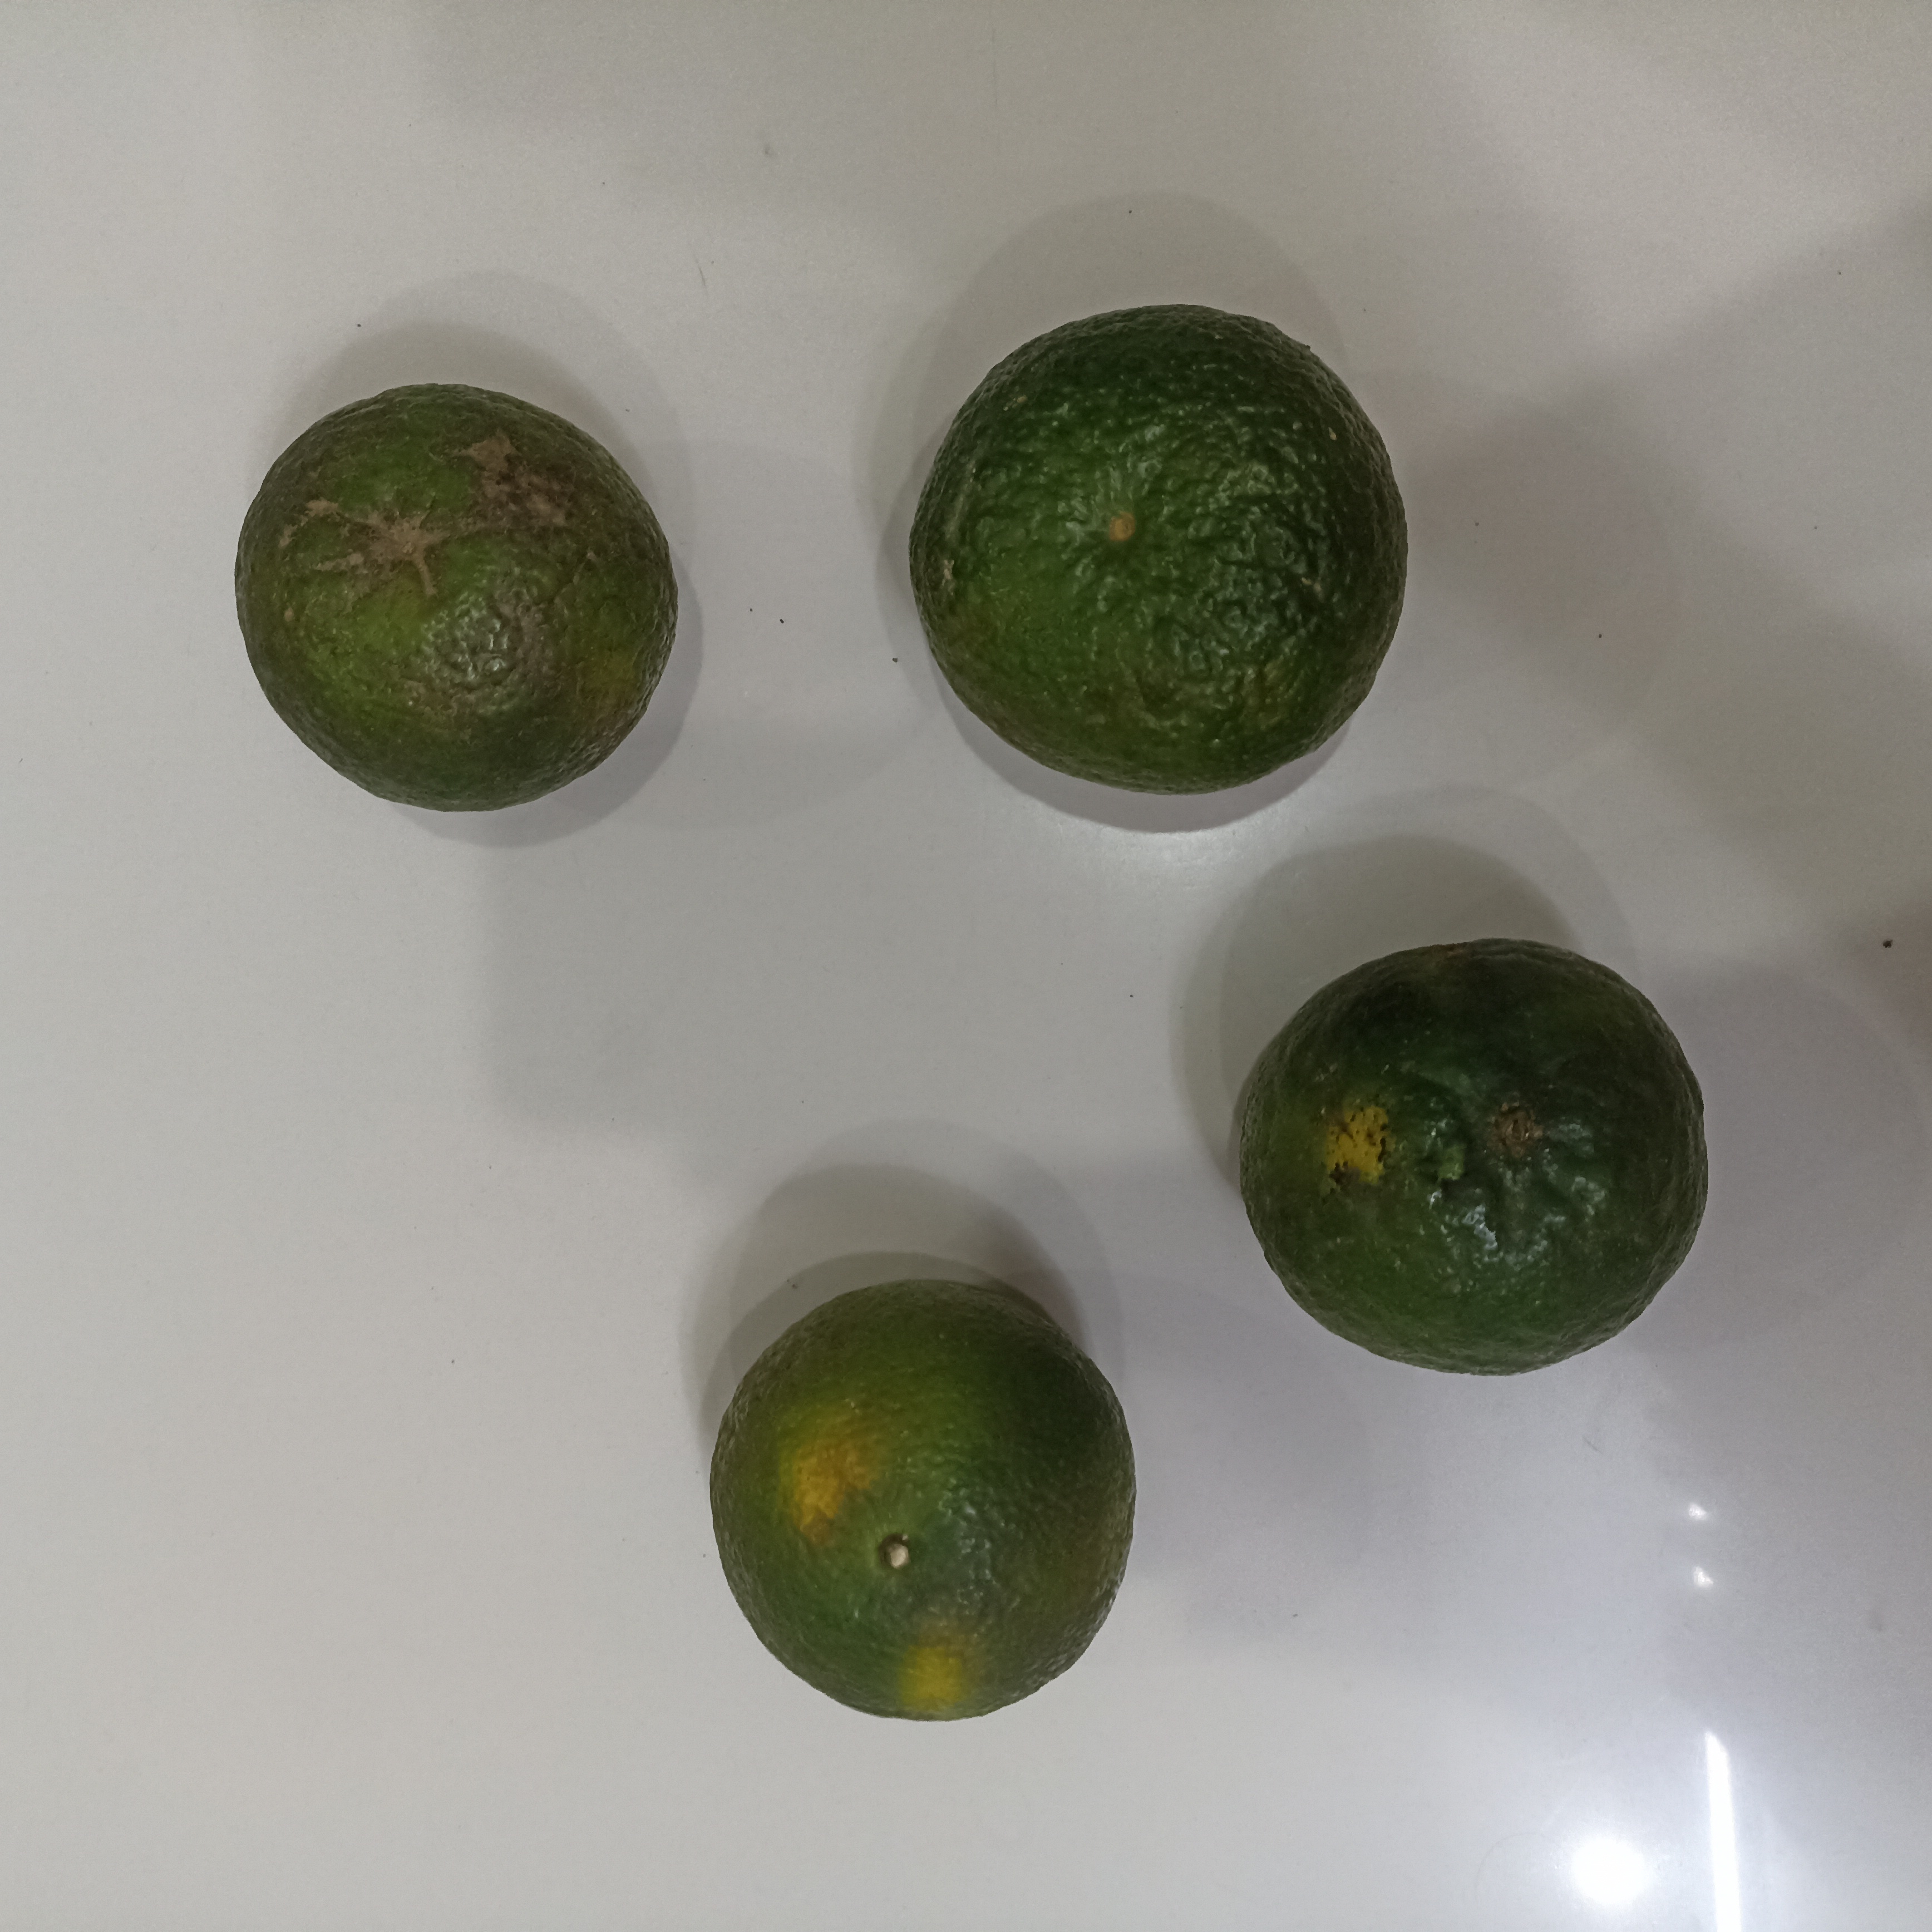Cam: (909, 297, 1408, 803), (1233, 931, 1709, 1378), (706, 1274, 1145, 1725), (230, 375, 679, 814)
